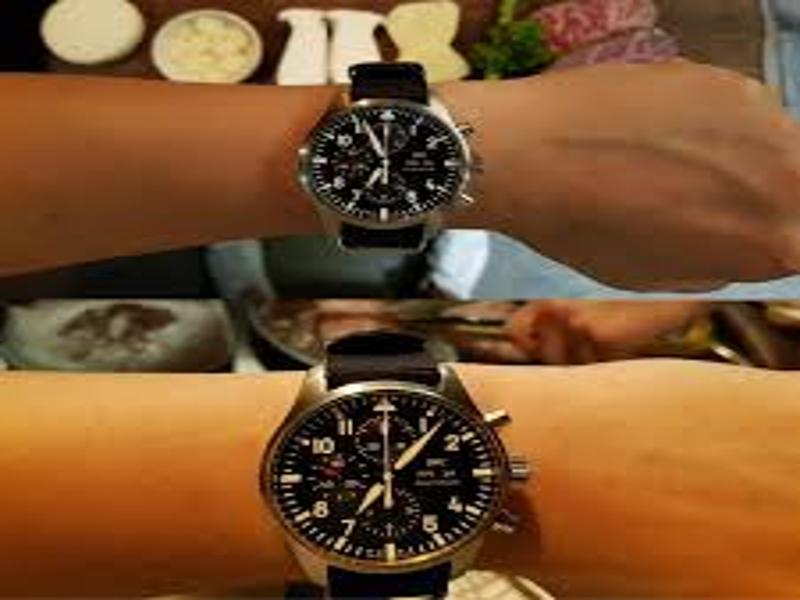watch: (255, 329, 531, 592), (294, 60, 485, 252)
